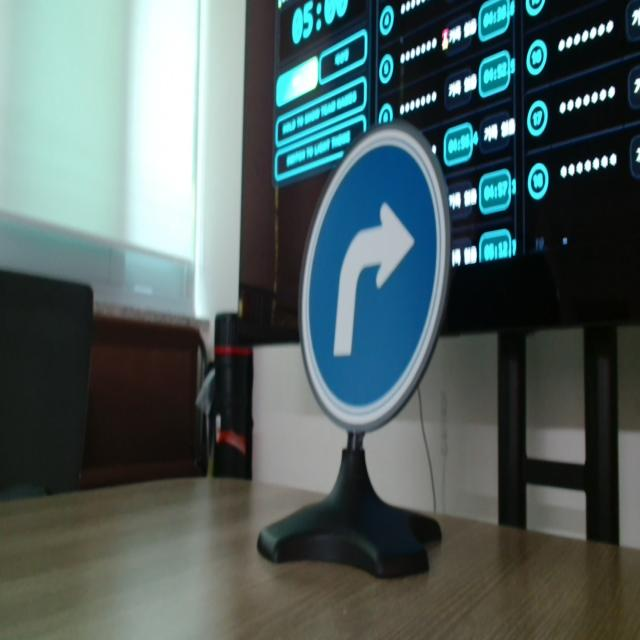right_dierection: (282, 111, 464, 423)
